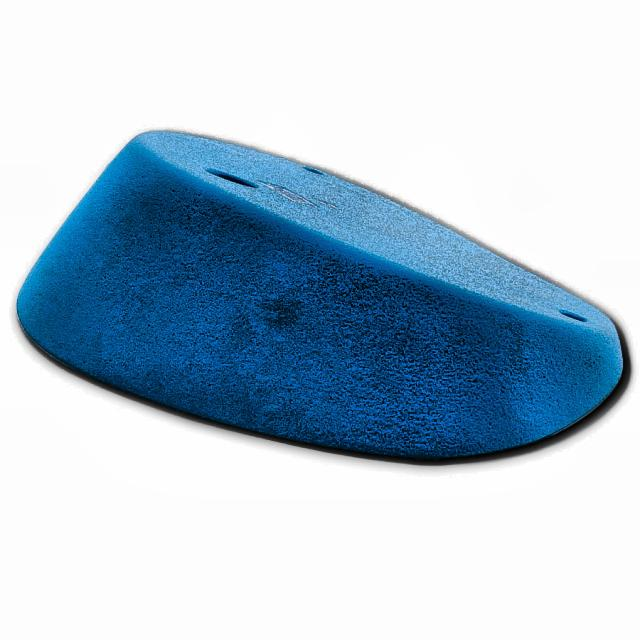Hold: (15, 118, 627, 473)
